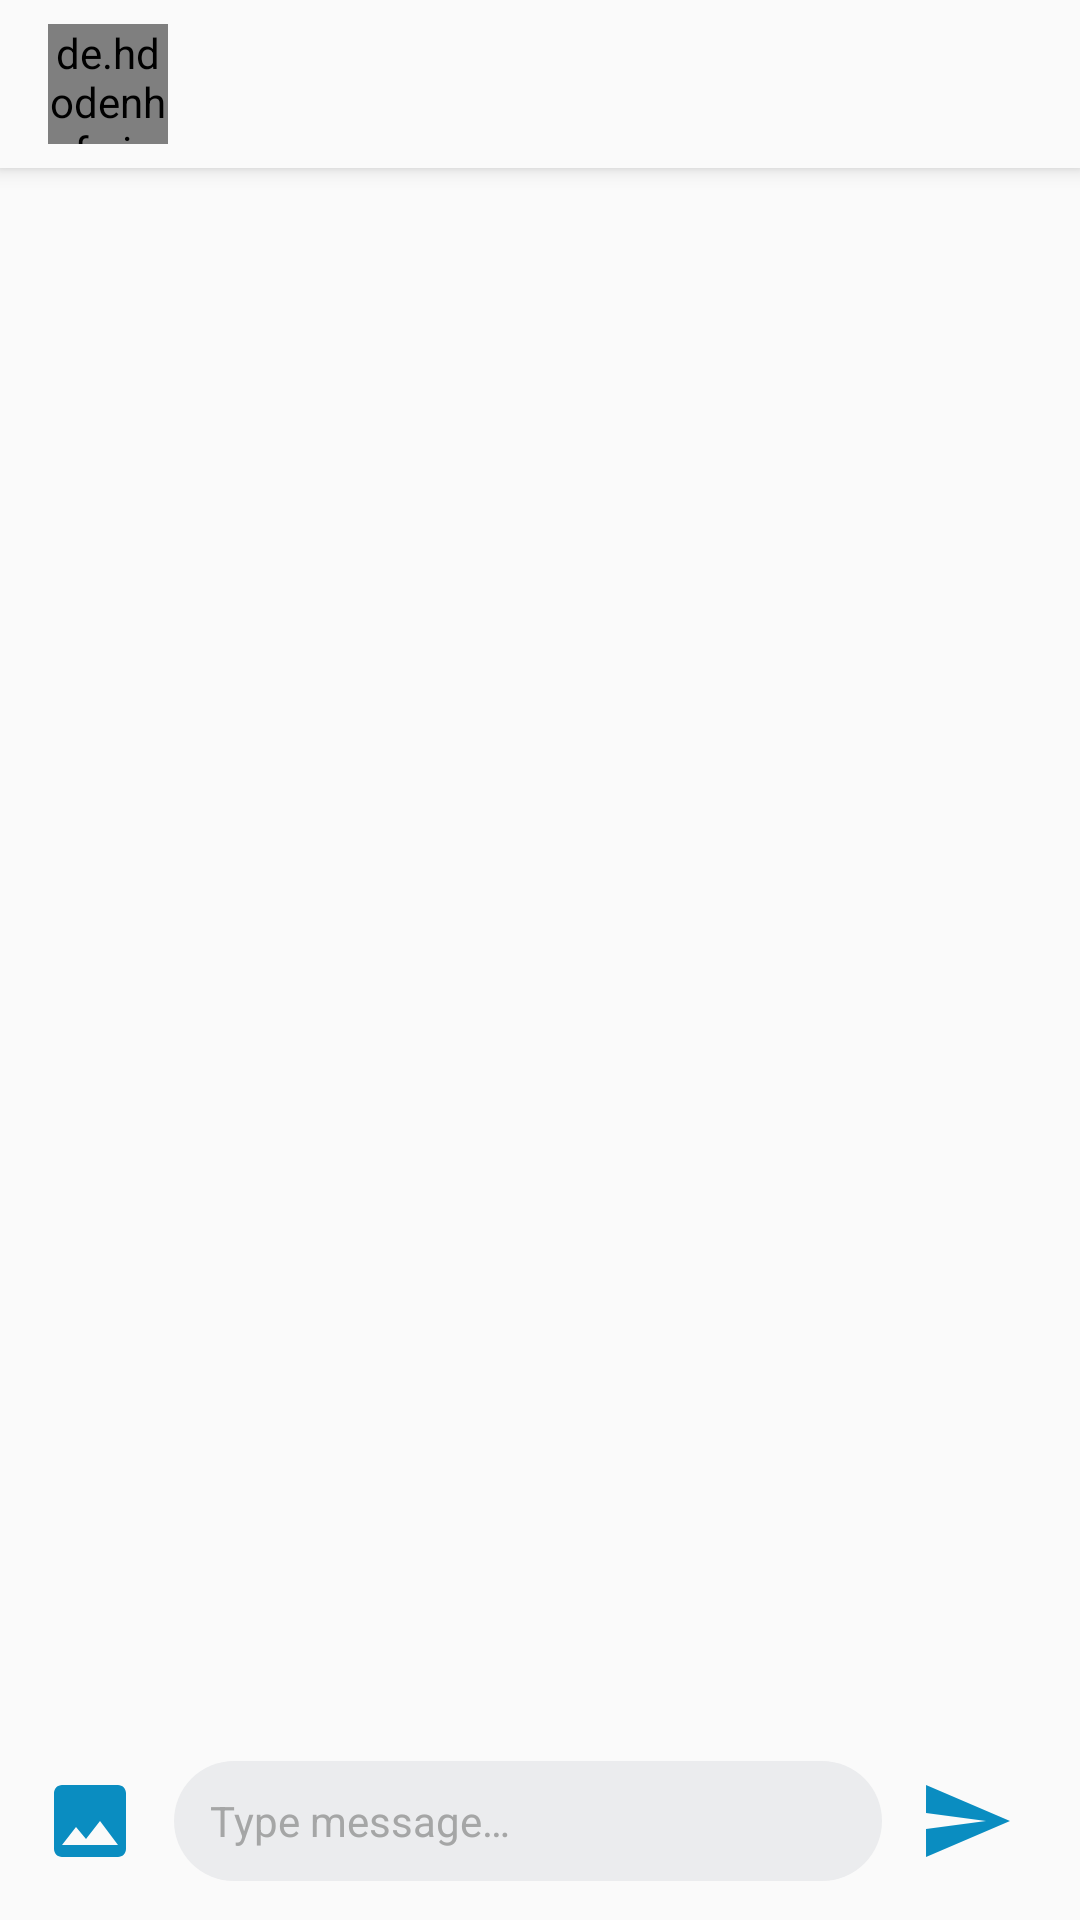

Icons on this 1080x1920 Android screen, each with the point to tap as point (x, y):
send: point (968, 1821)
